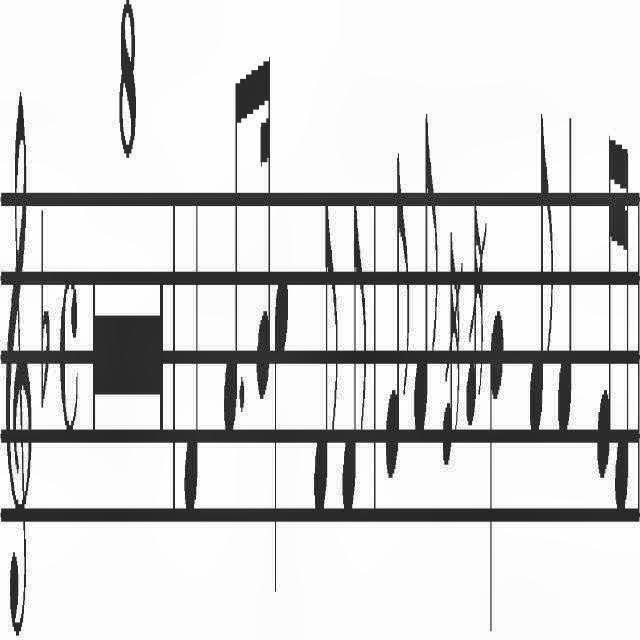Bass-clef: (5, 83, 35, 640)
Bemol: (40, 211, 51, 421)
Eighth-note: (385, 143, 411, 484), (312, 186, 338, 526), (412, 112, 438, 448), (528, 107, 554, 441), (341, 197, 367, 521), (222, 63, 240, 441)
Quarter-note: (556, 109, 574, 443), (183, 196, 201, 524), (272, 275, 290, 589), (490, 298, 504, 640)
Sixteenth-note: (596, 110, 614, 482), (614, 112, 630, 524), (256, 27, 272, 405)
